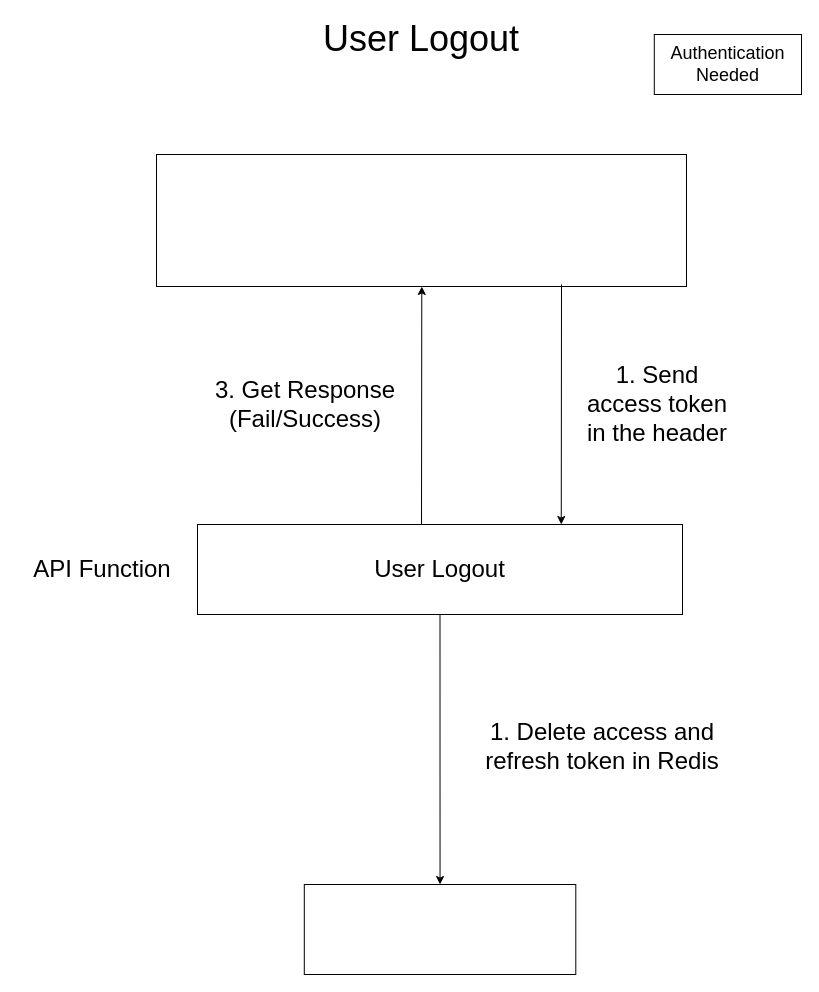
This 819x992 diagram has some shape labels left out. Each missing label, with the centre of its shape:
"Client" belongs at pixel 421 220.
"Redis" belongs at pixel 439 929.
